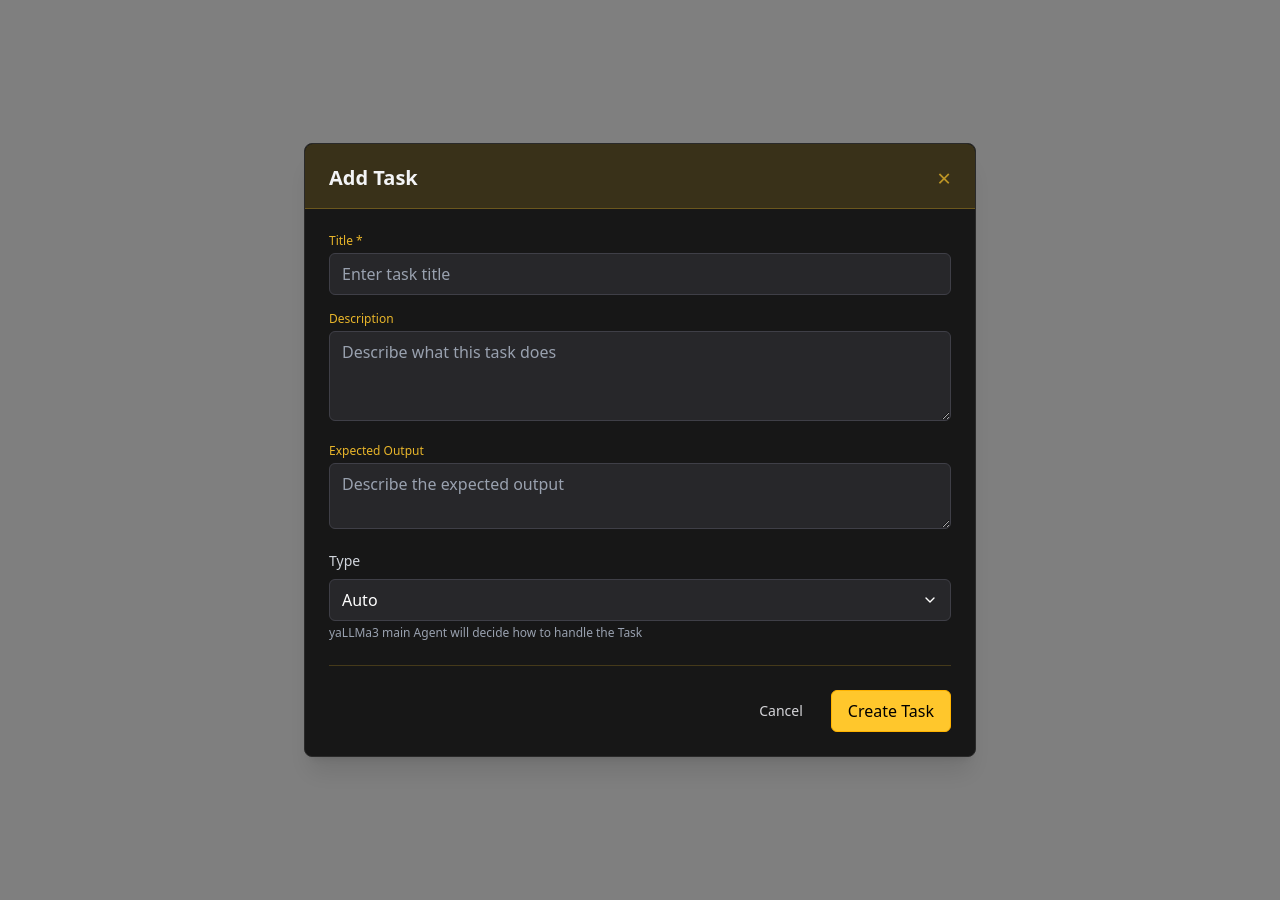
Scenario: TaskModal Component › Form Fields › should render type select with correct options
Expected: the text "Type" is shown, left=329, top=551, right=360, bottom=570
Expected: the text "Auto" is shown, left=342, top=588, right=378, bottom=612
Step 1. Click the dropdown "Auto" → click(640, 600), box left=329, top=579, right=951, bottom=621
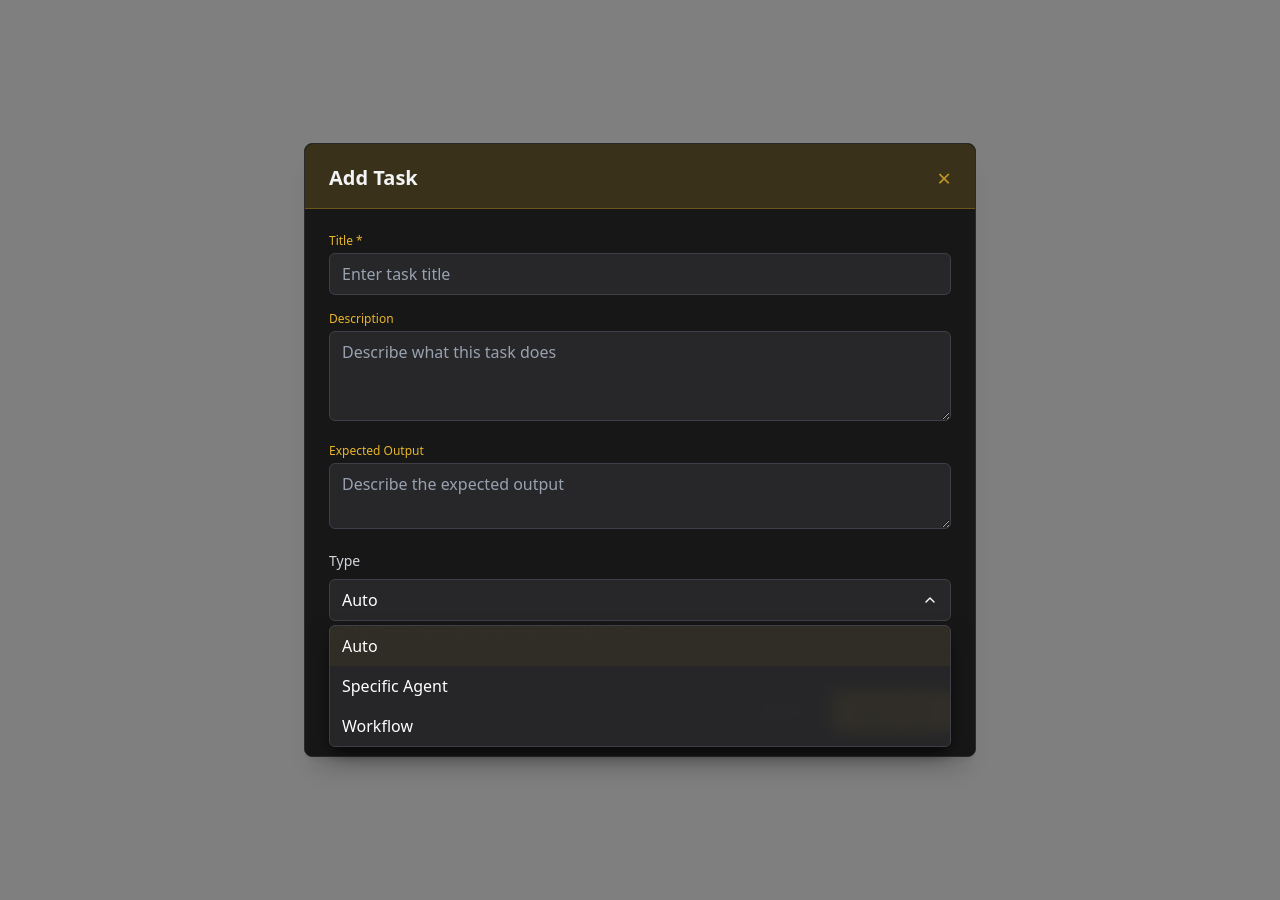
Now the option "Specific Agent" is shown, box left=342, top=675, right=448, bottom=697
Now the option "Workflow" is shown, box left=342, top=715, right=413, bottom=737
